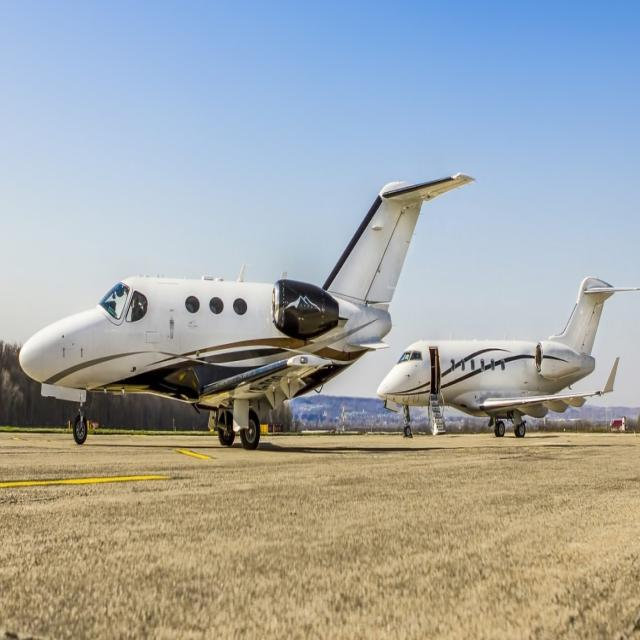jet: (12, 115, 495, 605), (354, 250, 640, 510)
